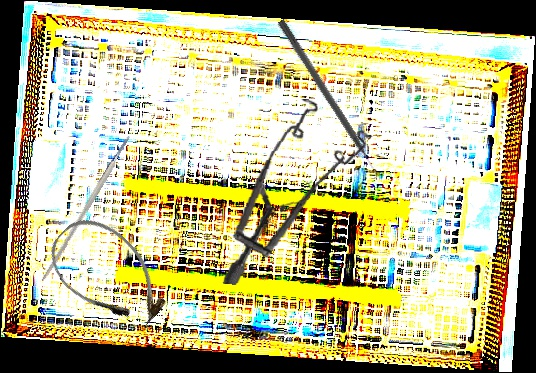Cannula: (37, 204, 180, 345)
Pusher: (275, 18, 382, 180)
Scalpel Handle: (39, 134, 134, 283)
Speculum: (221, 92, 377, 298)
